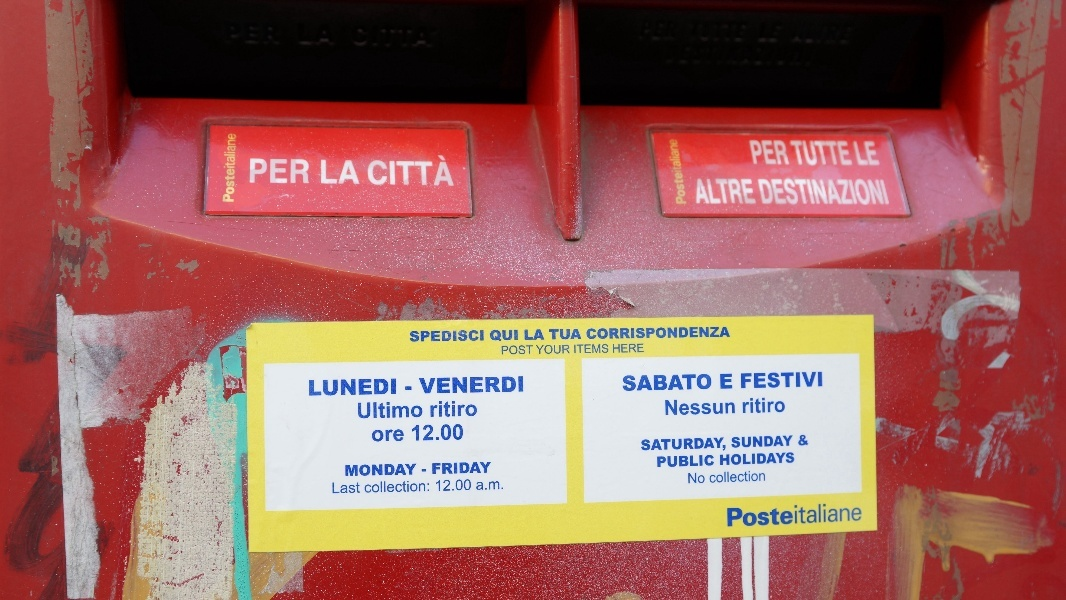text: (225, 134, 240, 202), (673, 139, 687, 204), (369, 155, 384, 187), (385, 155, 400, 187), (401, 155, 416, 187), (417, 155, 432, 187), (433, 155, 448, 187), (705, 178, 720, 204), (721, 178, 736, 204), (737, 178, 752, 204), (737, 502, 752, 528), (753, 502, 768, 528), (769, 502, 784, 528), (785, 502, 800, 528), (801, 502, 816, 528), (817, 502, 832, 528), (833, 502, 848, 528), (257, 159, 272, 184), (273, 159, 288, 184), (289, 159, 304, 184), (321, 160, 336, 185), (337, 160, 352, 185), (769, 179, 784, 204), (785, 179, 800, 204), (801, 179, 816, 204), (817, 179, 832, 204), (833, 179, 848, 204), (849, 179, 864, 204), (865, 179, 880, 204), (753, 140, 768, 165), (769, 140, 784, 165), (801, 141, 816, 166), (817, 141, 832, 166), (833, 141, 848, 166), (865, 141, 880, 166), (849, 502, 862, 528), (757, 179, 768, 204), (853, 141, 864, 166), (625, 374, 640, 392), (641, 374, 656, 392), (657, 374, 672, 392), (673, 374, 688, 392), (689, 374, 704, 392), (369, 401, 384, 419), (385, 401, 400, 419), (401, 401, 416, 419), (668, 139, 672, 204), (769, 397, 785, 413), (433, 377, 448, 394), (449, 377, 464, 394), (465, 377, 480, 394), (481, 377, 496, 394), (497, 377, 512, 394), (321, 379, 336, 396), (337, 379, 352, 396), (353, 379, 368, 396), (369, 379, 384, 396), (433, 401, 448, 418), (449, 401, 464, 418), (790, 141, 800, 166), (753, 372, 768, 388), (769, 372, 784, 388), (785, 372, 800, 388), (801, 372, 816, 388), (753, 397, 768, 413), (417, 425, 432, 441), (433, 425, 448, 441), (673, 400, 688, 415), (689, 400, 704, 415), (705, 400, 720, 415), (449, 425, 463, 441), (419, 377, 432, 394), (465, 401, 478, 418), (721, 400, 735, 415), (737, 435, 752, 449), (753, 435, 768, 449), (769, 435, 784, 449), (728, 502, 736, 528), (881, 179, 889, 204), (593, 327, 608, 340), (609, 327, 624, 340), (625, 327, 640, 340), (641, 327, 656, 340), (657, 327, 672, 340), (673, 327, 688, 340), (689, 327, 704, 340), (705, 327, 720, 340), (385, 429, 400, 442), (657, 438, 672, 451), (673, 438, 688, 451), (689, 438, 704, 451), (705, 438, 720, 451), (673, 455, 688, 468), (689, 455, 704, 468), (433, 462, 448, 475), (449, 462, 464, 475), (465, 462, 480, 475), (401, 464, 417, 476), (385, 379, 396, 396), (642, 438, 656, 451), (658, 455, 672, 468), (417, 330, 432, 342), (433, 330, 448, 342), (449, 330, 464, 342), (465, 330, 480, 342), (497, 330, 512, 342), (721, 374, 733, 389), (358, 401, 368, 419), (721, 453, 736, 465), (737, 453, 752, 465), (753, 453, 768, 465), (769, 453, 784, 465), (721, 471, 736, 483), (737, 471, 752, 483), (353, 464, 368, 476), (369, 464, 384, 476), (385, 464, 400, 476), (337, 482, 352, 494), (369, 481, 384, 493), (385, 481, 400, 493), (401, 481, 416, 493), (449, 479, 464, 491), (741, 372, 752, 388), (353, 160, 360, 185), (513, 377, 523, 394), (310, 379, 320, 396), (561, 329, 576, 340), (689, 473, 704, 484), (449, 155, 454, 187), (529, 330, 545, 340), (593, 344, 609, 354), (698, 178, 704, 204), (417, 481, 430, 493), (250, 159, 256, 184), (577, 344, 592, 354), (481, 481, 496, 491), (743, 397, 752, 413), (753, 471, 765, 483), (436, 479, 448, 491), (373, 429, 384, 442), (545, 345, 560, 354), (513, 346, 528, 355), (625, 344, 640, 353), (721, 327, 731, 340), (481, 462, 491, 475), (705, 374, 712, 392), (305, 159, 310, 184), (785, 140, 790, 165), (549, 329, 560, 340), (785, 453, 795, 465), (710, 471, 720, 483), (705, 455, 714, 468), (785, 435, 793, 449), (665, 400, 672, 415), (753, 178, 757, 204), (613, 344, 624, 353), (417, 401, 422, 419), (502, 346, 512, 355), (801, 435, 809, 446), (353, 482, 360, 494), (561, 345, 570, 354), (817, 372, 822, 388), (749, 140, 752, 165), (849, 141, 852, 166), (536, 345, 544, 354), (346, 464, 352, 476), (465, 479, 471, 491), (497, 481, 504, 491), (587, 327, 592, 340), (721, 438, 726, 451), (412, 425, 416, 441), (411, 330, 416, 342), (491, 330, 496, 342), (513, 330, 518, 342), (732, 435, 736, 449), (577, 329, 582, 340), (401, 429, 404, 442), (481, 330, 484, 342), (529, 346, 533, 355), (333, 482, 336, 494), (365, 481, 368, 493), (430, 401, 432, 418), (525, 330, 528, 340), (406, 387, 416, 390), (422, 469, 432, 472), (477, 481, 480, 491), (641, 344, 644, 353), (623, 374, 624, 392), (575, 344, 576, 354)
